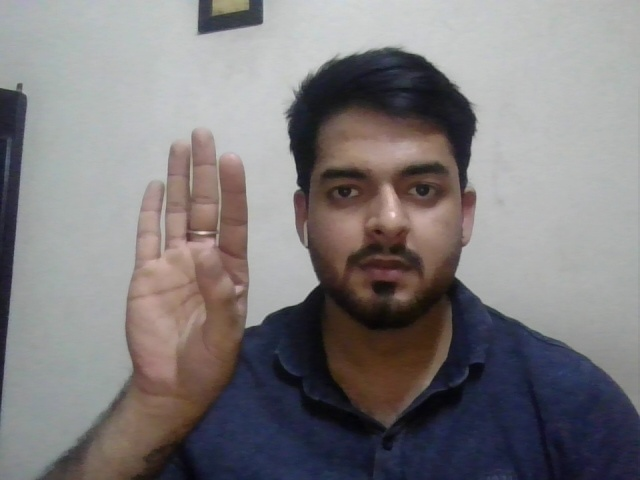hello: (124, 128, 253, 407)
